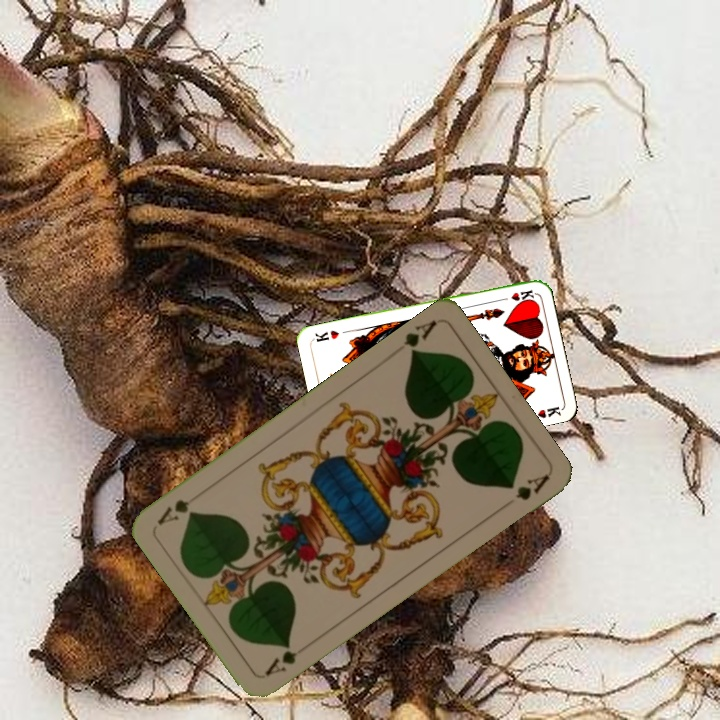GA: (261, 639, 312, 679), (399, 316, 439, 360)
HK: (496, 286, 536, 304)
